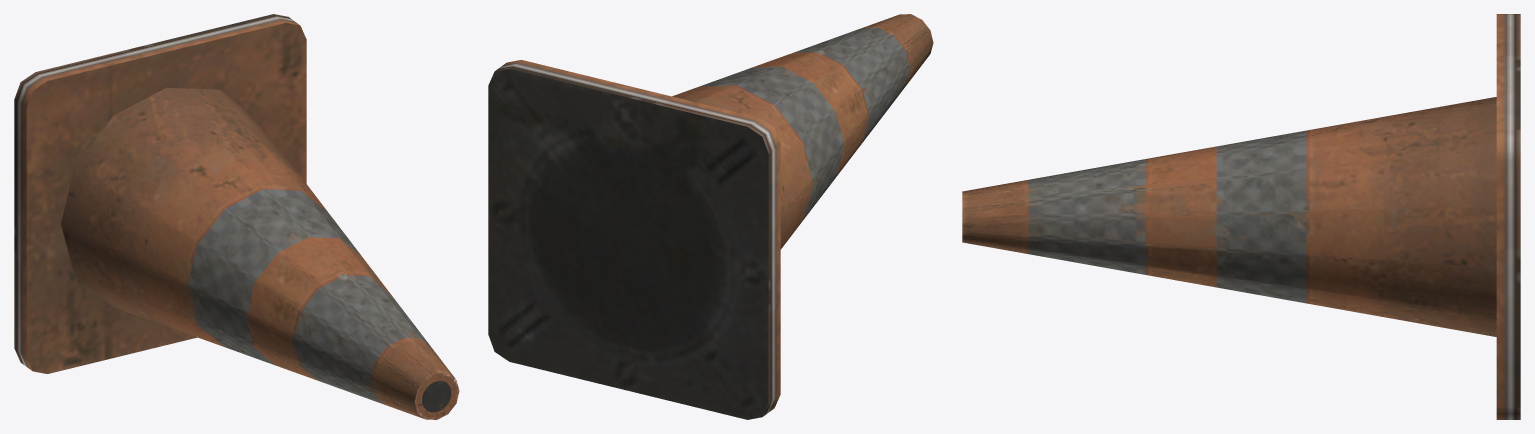
File: p_us_parkingcone_LOD0.obj
The picture shows the model from 3 angles, left to right: view 1: azimuth 30°, elevation 25°; view 2: azimuth 150°, elevation 25°; view 3: azimuth 270°, elevation 25°; orthographic projection.
Parts seen in each view (by area): view 1: mtl_p_us_parkingcone; view 2: mtl_p_us_parkingcone; view 3: mtl_p_us_parkingcone.
Boxes of the visible parts, x1,y1,x2,y2 form: mtl_p_us_parkingcone: (14,14,459,419); mtl_p_us_parkingcone: (488,14,933,419); mtl_p_us_parkingcone: (962,14,1520,419).
Bounding box in the file's own units: 40.16 × 40.16 × 70.15.
